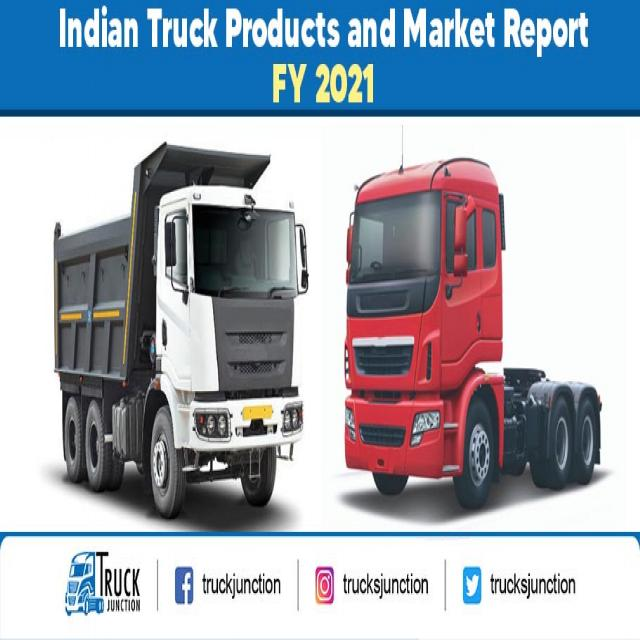Truck: (52, 144, 305, 511), (343, 151, 602, 508)
